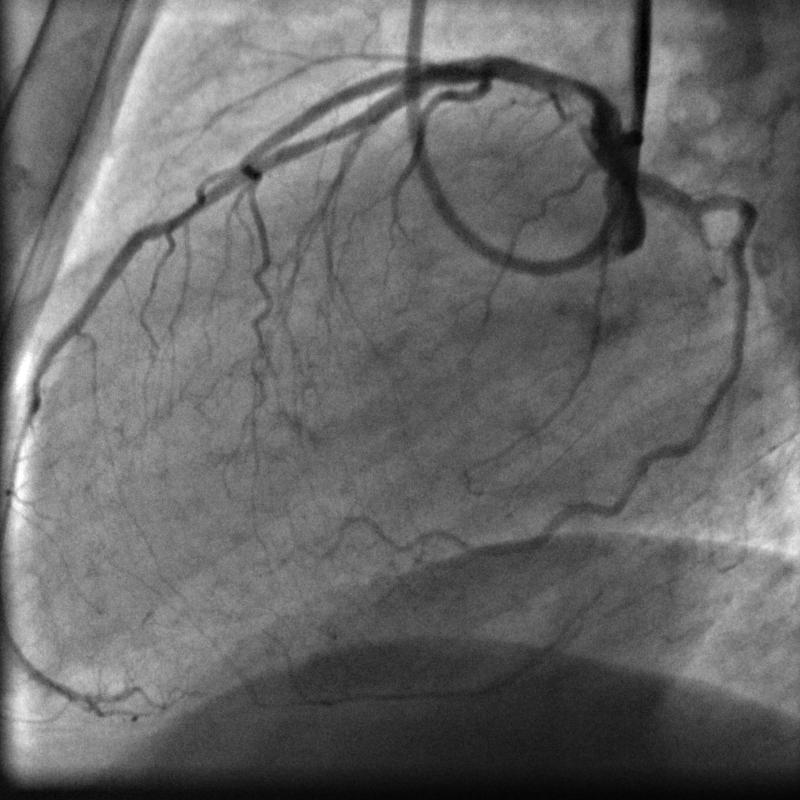Stenosis: (453, 53, 505, 103)
